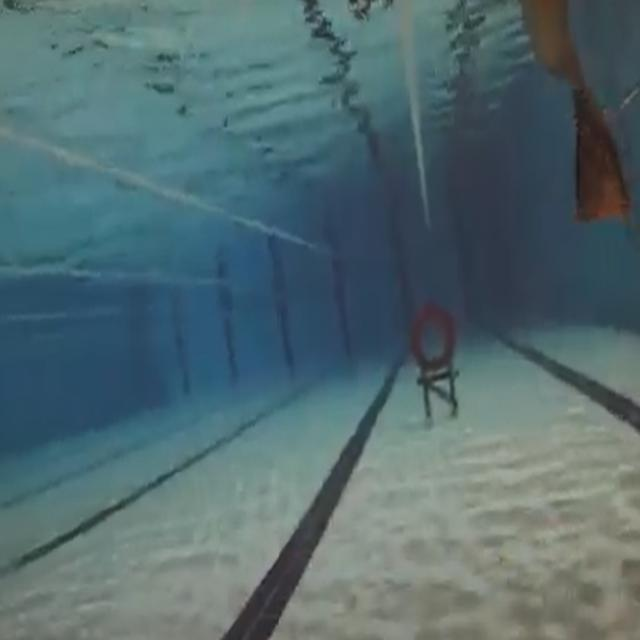Circle: (410, 300, 457, 370)
